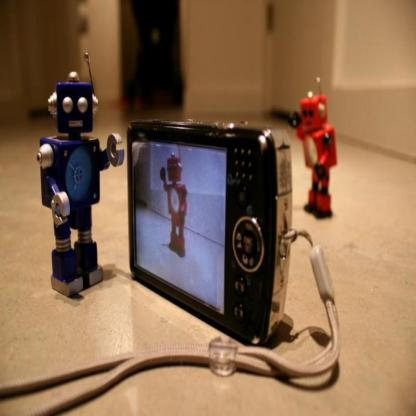Camera: (114, 120, 312, 376)
